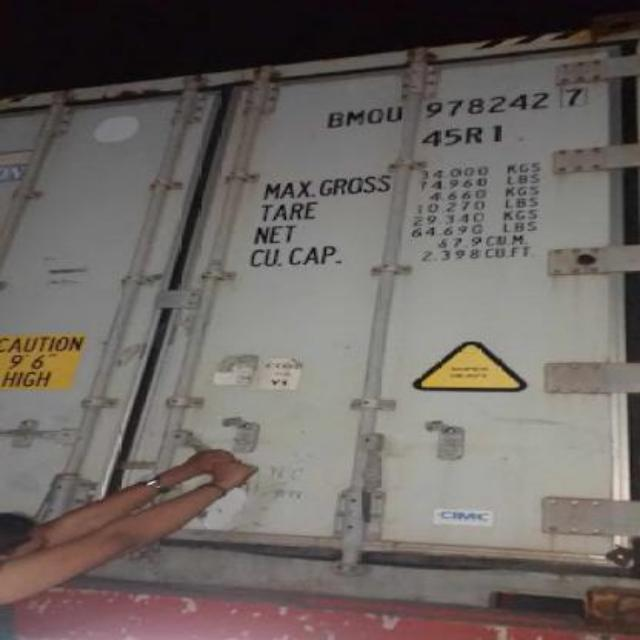2: (528, 88, 550, 116), (486, 91, 506, 117)
4: (506, 88, 530, 118)
7: (558, 84, 584, 110), (444, 90, 464, 120)
8: (462, 92, 486, 118)
9: (422, 97, 442, 123)
B: (324, 108, 344, 132)
M: (340, 104, 366, 132)
O: (364, 104, 384, 130)
U: (382, 101, 404, 131)
